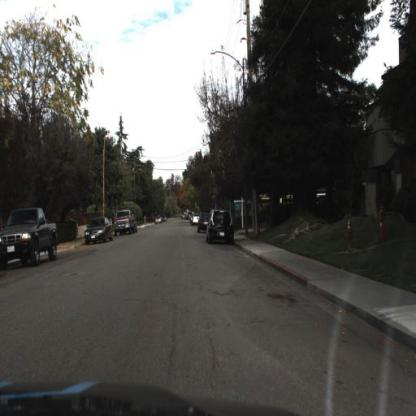car: (0, 205, 60, 269), (204, 206, 236, 250), (79, 213, 114, 250), (108, 202, 141, 239), (195, 209, 208, 237)
